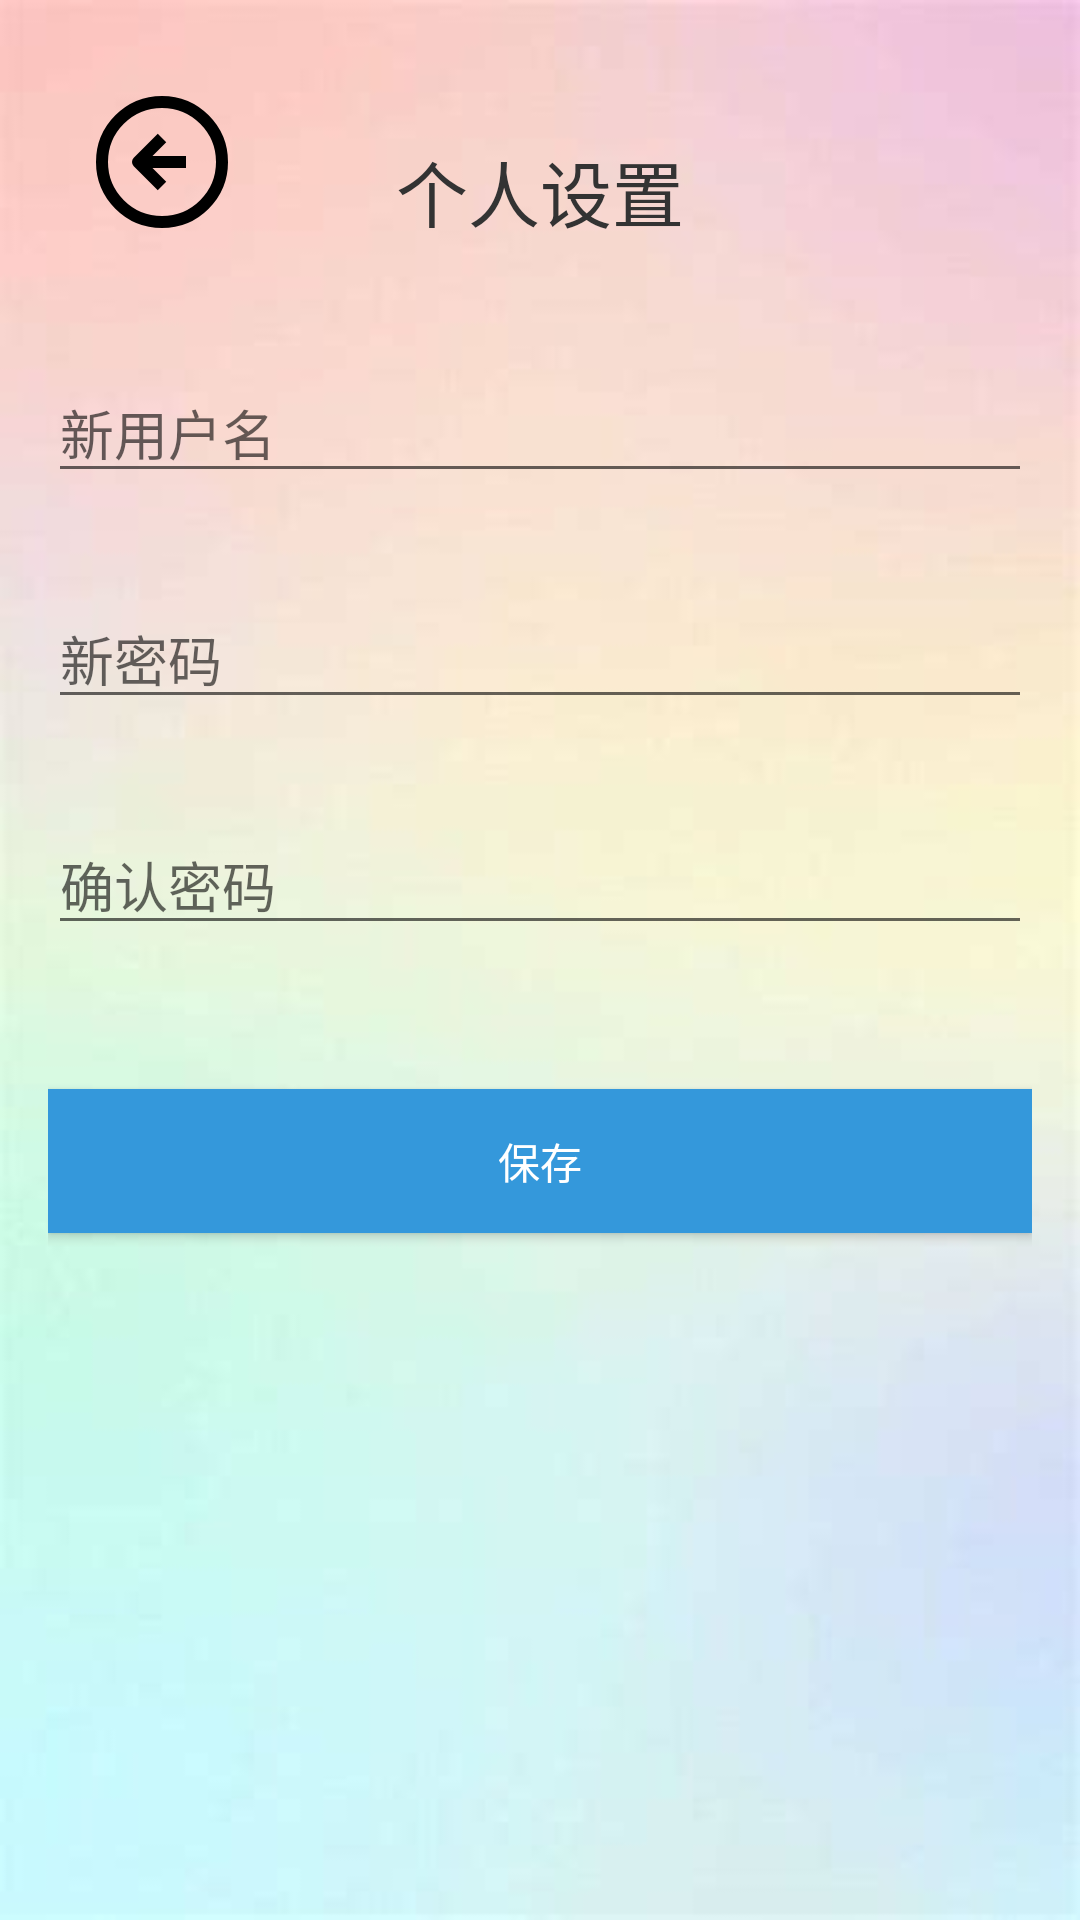

Locate icon controls on the screen. Image size 1080 × 1920, boxes as Rect(x1, y1, x2, y2).
back: Rect(96, 96, 228, 228)
